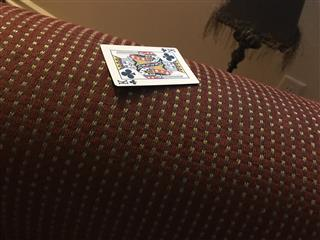KingOfClubs: (99, 43, 200, 87)
